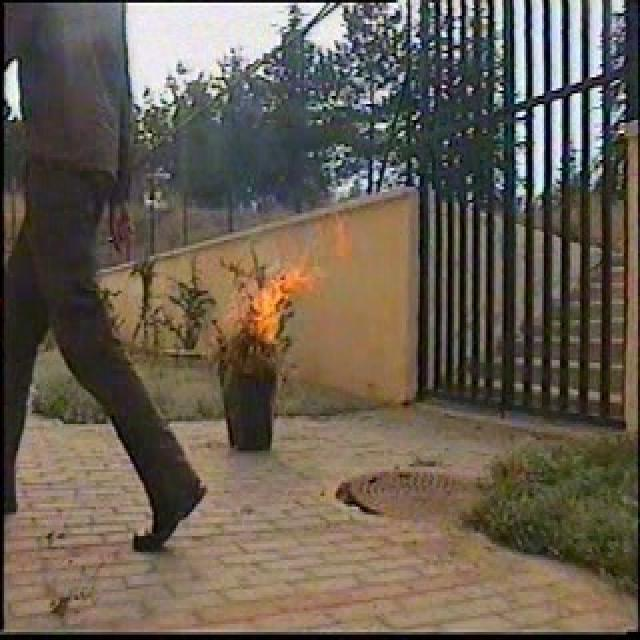Fire: (206, 207, 354, 350)
Smoke: (186, 84, 333, 280)
